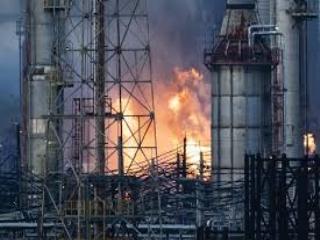fire: (151, 66, 214, 164), (100, 94, 155, 166)
